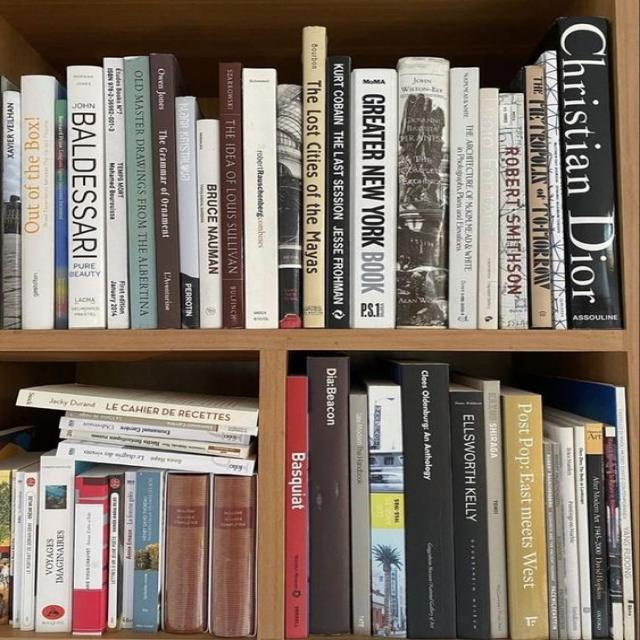book: (540, 17, 621, 328), (391, 361, 454, 637), (396, 57, 449, 328), (350, 69, 396, 328), (360, 379, 406, 636), (308, 358, 350, 634), (503, 397, 546, 640), (68, 66, 103, 328), (452, 389, 488, 636), (22, 76, 57, 329), (124, 57, 156, 328), (243, 68, 276, 328), (535, 50, 565, 329), (19, 390, 257, 425), (448, 68, 479, 329), (150, 54, 178, 328), (209, 476, 255, 636), (302, 26, 326, 328), (523, 65, 550, 328), (325, 56, 351, 328), (163, 473, 207, 632), (35, 456, 73, 632), (56, 442, 255, 475), (103, 58, 127, 328), (499, 93, 526, 329), (284, 376, 308, 639), (72, 474, 109, 634), (222, 63, 243, 329), (60, 429, 248, 457), (484, 381, 504, 640), (584, 422, 608, 637), (60, 417, 249, 444), (176, 97, 198, 328), (279, 85, 300, 326), (477, 88, 498, 329), (66, 411, 258, 436), (0, 78, 19, 329), (350, 388, 368, 634), (198, 120, 219, 328), (11, 464, 36, 630), (136, 472, 160, 630), (574, 426, 591, 640), (560, 428, 577, 638), (53, 81, 67, 329), (107, 477, 122, 628), (0, 471, 11, 623), (124, 472, 134, 627)
